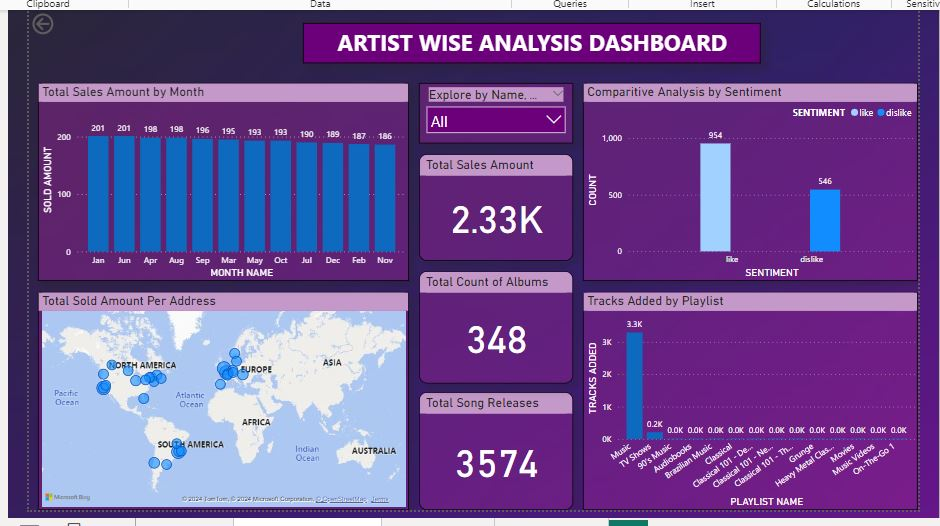

What the dashboard file says about the page in this screenshot:
{"tool":"powerbi","page":{"name":"artist vise analysis","canvas":[1280,720],"ordinal":1},"visuals":[{"type":"slicer","fields":{"Values":["DIM_ARTIST.ARTIST_NAME"]},"box":[548.6,31.9,261.7,97.3],"z":0},{"type":"card","fields":{"Values":["CountNonNull(FACT_ARTISTRELEASES.SONG_RELEASES)"]},"box":[573.7,582.1,211.4,137.6],"z":1000},{"type":"map","fields":{"Size":["Sum(FACT_TRACKSALES.SOLDAMOUNT)"],"Category":["DIM_CUSTOMER.MAPS_ADDRESS"]},"box":[30.2,377.5,516.7,342.2],"z":2000},{"type":"card","fields":{"Values":["Sum(FACT_TRACKSALES.SOLDAMOUNT)"]},"box":[573.7,216.4,211.4,129.2],"z":3000},{"type":"card","fields":{"Values":["Count(FACT_ARTISTRELEASES.ALBUMID)"]},"box":[573.7,406,211.4,142.6],"z":4000},{"type":"clusteredColumnChart","fields":{"Y":["CountNonNull(FACT_TRACKREVIEW.LIKES)"],"Series":["FACT_TRACKREVIEW.SENTIMENT"],"Category":["FACT_TRACKREVIEW.SENTIMENT"]},"box":[808.6,31.9,458,328.8],"z":5000},{"type":"columnChart","fields":{"Y":["Sum(FACT_TRACKSALES.SOLDAMOUNT)"],"Category":["DIM_DATE.MONTHNAME"]},"box":[30.2,31.9,516.7,328.8],"z":6000},{"type":"clusteredColumnChart","fields":{"Y":["CountNonNull(FACT_PLAYLISTTRACKSADDED.TRACKS_ADDED)"],"Category":["FACT_PLAYLISTTRACKSADDED.PLAYLIST_NAME"]},"box":[808.6,377.5,458,342.2],"z":7000},{"type":"actionButton","box":[0,0,100,40],"z":8000}]}

Visuals, with their boxes on the page's 1280x720 design canvas (x1, y1, x2, y2). These are canvas units, not pixel positions in the 940x526 screenshot, which may show the page scaled, cropped or inside an application window:
slicer - DIM_ARTIST.ARTIST_NAME: 549 32 810 129
card - CountNonNull(FACT_ARTISTRELEASES.SONG_RELEASES): 574 582 785 720
map - Sum(FACT_TRACKSALES.SOLDAMOUNT) x DIM_CUSTOMER.MAPS_ADDRESS: 30 378 547 720
card - Sum(FACT_TRACKSALES.SOLDAMOUNT): 574 216 785 346
card - Count(FACT_ARTISTRELEASES.ALBUMID): 574 406 785 549
clusteredColumnChart - CountNonNull(FACT_TRACKREVIEW.LIKES) x FACT_TRACKREVIEW.SENTIMENT: 809 32 1267 361
columnChart - Sum(FACT_TRACKSALES.SOLDAMOUNT) x DIM_DATE.MONTHNAME: 30 32 547 361
clusteredColumnChart - CountNonNull(FACT_PLAYLISTTRACKSADDED.TRACKS_ADDED) x FACT_PLAYLISTTRACKSADDED.PLAYLIST_NAME: 809 378 1267 720
actionButton: 0 0 100 40
